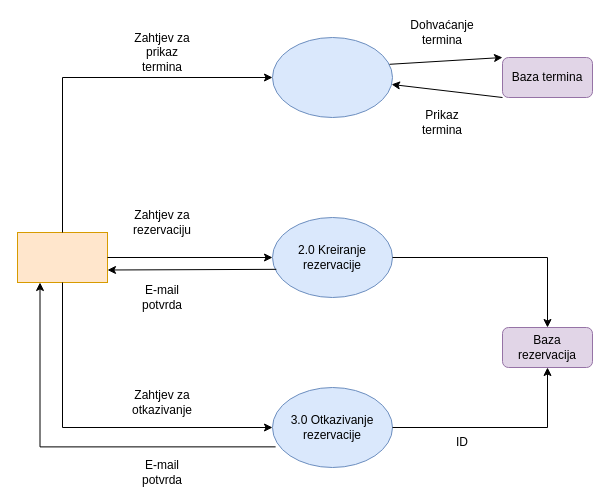
Image size: 610x504. Some labels were removed from this diagram. Here are the shapes that lost their labels. From the top down, the centre of each, then its label:
At point 332,77: "1.0 Prikaz termina".
At point 62,257: "Korisnik".
